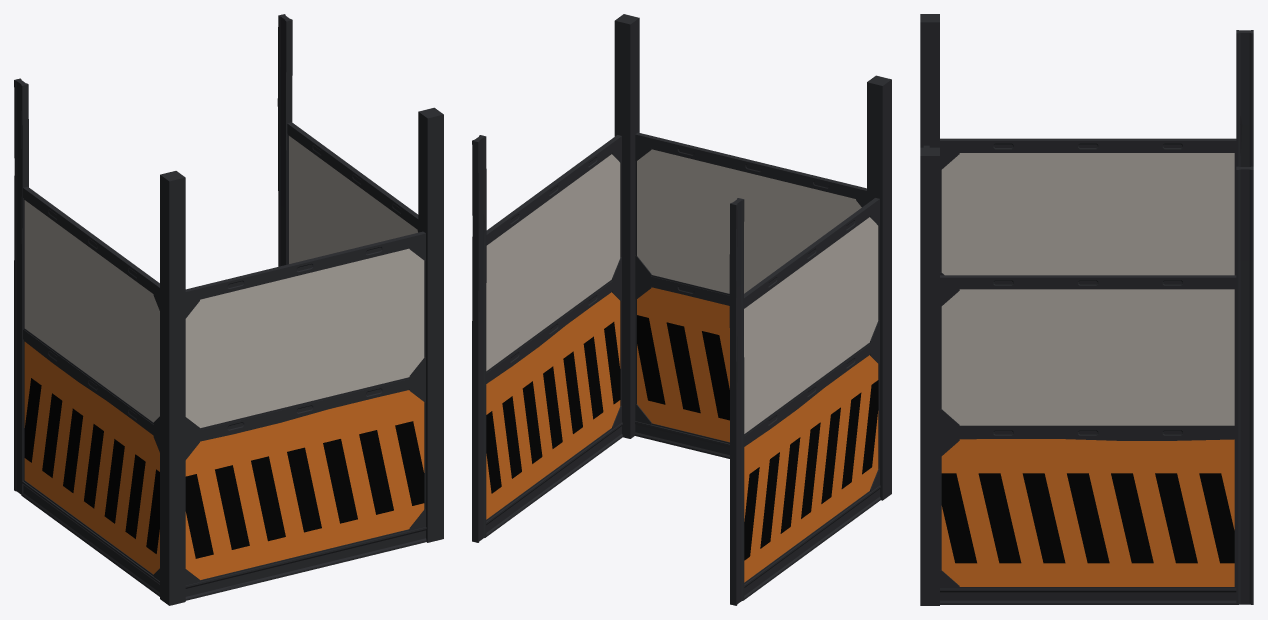
The model's file is SM_Wall_Angle_06.gltf.
3 renders of one model, left to right at view 1: azimuth 30°, elevation 25°; view 2: azimuth 150°, elevation 25°; view 3: azimuth 270°, elevation 25°, orthographic. The views are drawn at different scales.
Visible parts, largest first — view 1: SM_Wall_Angle_06; view 2: SM_Wall_Angle_06; view 3: SM_Wall_Angle_06.
Boxes of the visible parts, x1,y1,x2,y2 form: SM_Wall_Angle_06: (14,14,443,605); SM_Wall_Angle_06: (472,14,891,605); SM_Wall_Angle_06: (920,14,1253,605).
Size of the model in its own units: 2.03 by 3 by 2.01.
